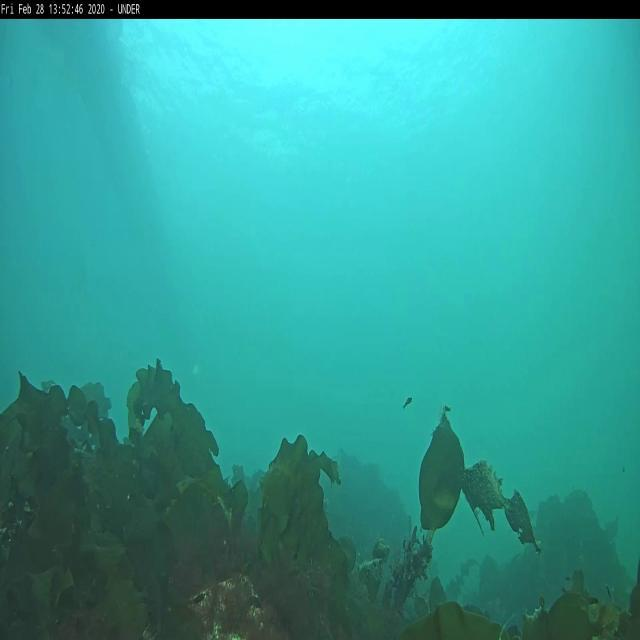fish: (402, 394, 412, 408)
